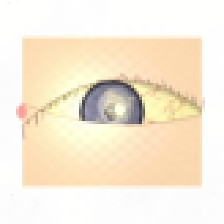corneal_ulcer: (96, 91, 135, 122)
